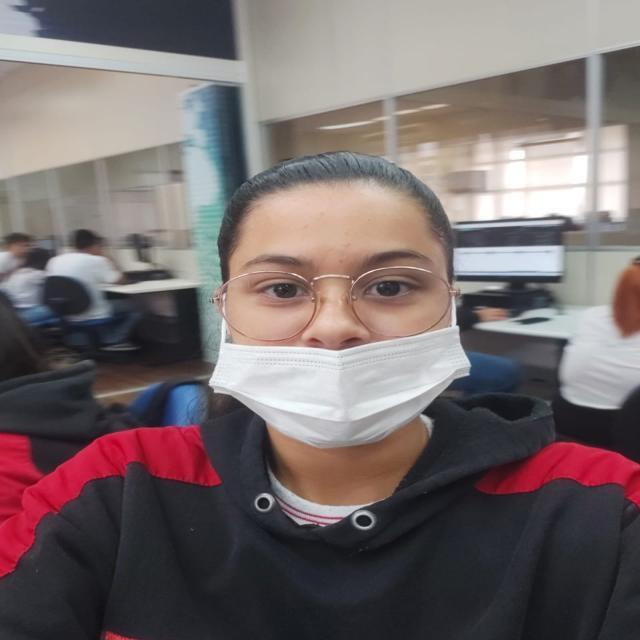hairnet: (226, 297, 462, 440)
